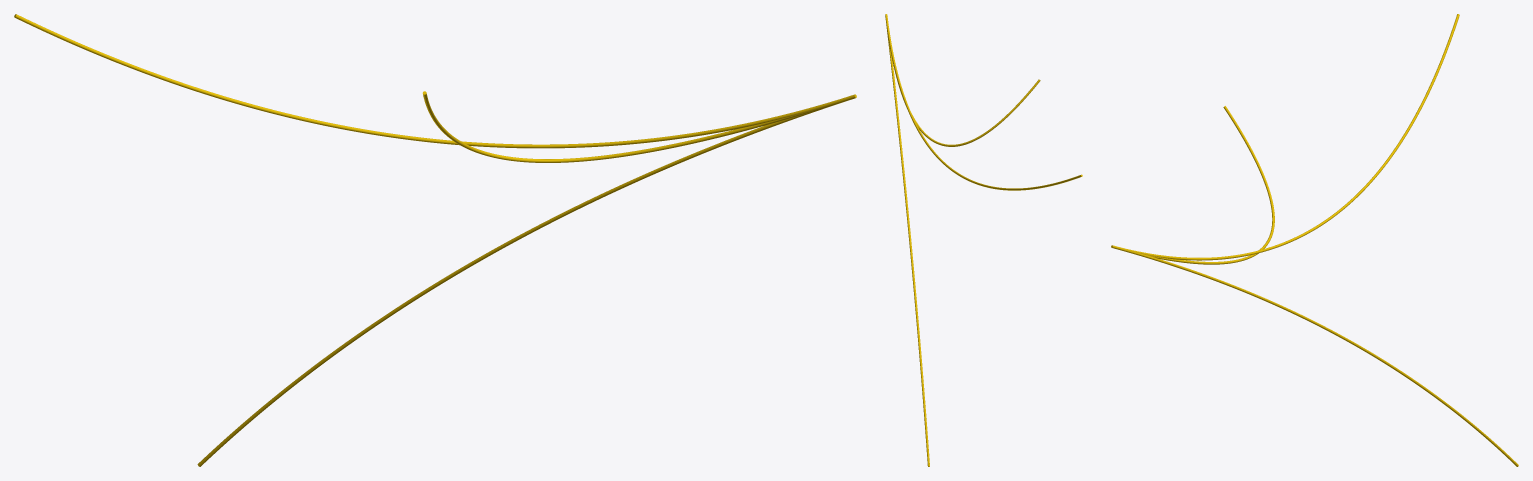
Rendered from waiSTRINGS.gltf.
3 renders of one model, left to right at view 1: azimuth 30°, elevation 25°; view 2: azimuth 150°, elevation 25°; view 3: azimuth 270°, elevation 25°, orthographic. The views are drawn at different scales.
Parts seen in each view (by area): view 1: waiSTRINGS; view 2: waiSTRINGS; view 3: waiSTRINGS.
Part boxes in pixels (bbox=[...]): waiSTRINGS: bbox=[14, 14, 856, 466]; waiSTRINGS: bbox=[885, 14, 1082, 466]; waiSTRINGS: bbox=[1111, 14, 1518, 466].
Bounding box in the file's own units: 17.52 × 15.16 × 14.91.
